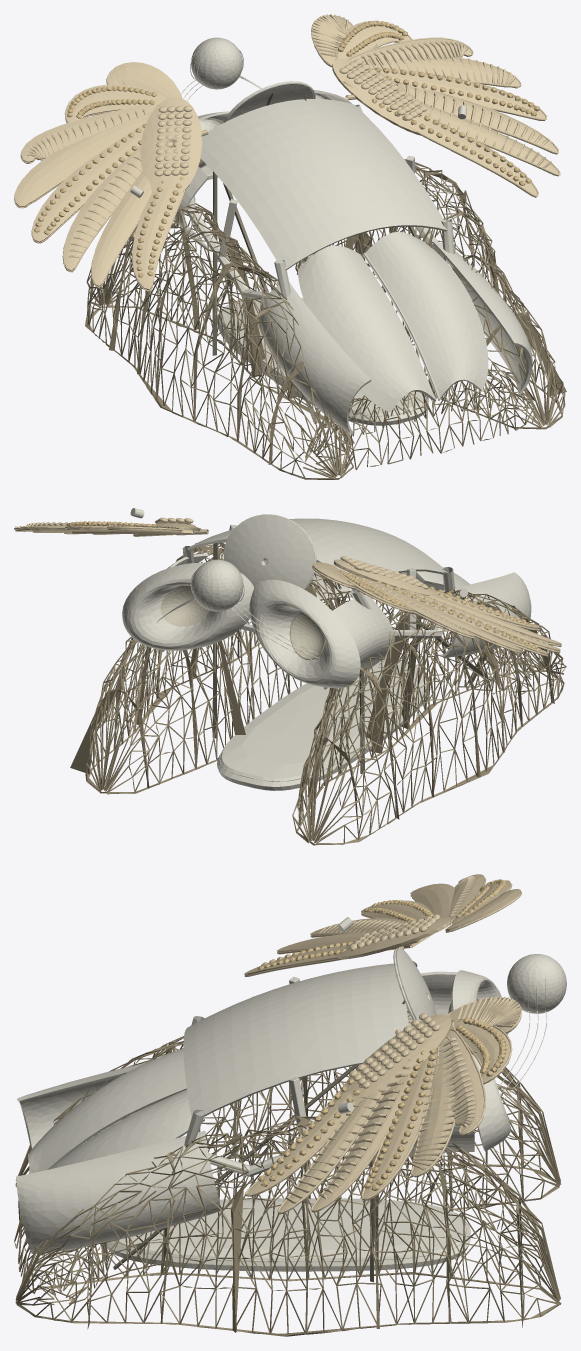
Rendered from carpushit-preview.glb.
3 renders of one model, top to bottom at view 1: azimuth 30°, elevation 25°; view 2: azimuth 150°, elevation 25°; view 3: azimuth 270°, elevation 25°, orthographic. The views are drawn at different scales.
Visible parts, largest first — view 1: Carpushit / shell, Carpushit / wings, Carpushit / lattice, Carpushit / wing-detail, Carpushit / metal; view 2: Carpushit / shell, Carpushit / lattice, Carpushit / wings, Carpushit / reflectors, Carpushit / wing-detail, Carpushit / metal; view 3: Carpushit / shell, Carpushit / lattice, Carpushit / wings, Carpushit / wing-detail, Carpushit / metal.
Part boxes in pixels (x1,y1,x2,y2): Carpushit / shell: (130, 37, 532, 434); Carpushit / wings: (14, 14, 560, 291); Carpushit / lattice: (85, 159, 566, 479); Carpushit / wing-detail: (34, 20, 540, 277); Carpushit / metal: (212, 92, 486, 423); Carpushit / shell: (122, 508, 531, 790); Carpushit / lattice: (70, 543, 566, 845); Carpushit / wings: (14, 517, 561, 656); Carpushit / reflectors: (160, 585, 325, 660); Carpushit / wing-detail: (57, 521, 541, 651); Carpushit / metal: (212, 541, 486, 773); Carpushit / shell: (16, 917, 566, 1271); Carpushit / lattice: (14, 1011, 561, 1336); Carpushit / wings: (244, 874, 522, 1214); Carpushit / wing-detail: (257, 879, 506, 1190); Carpushit / metal: (113, 1000, 405, 1282).
Bounding box in the file's own units: 5.55 × 2.65 × 4.49.
